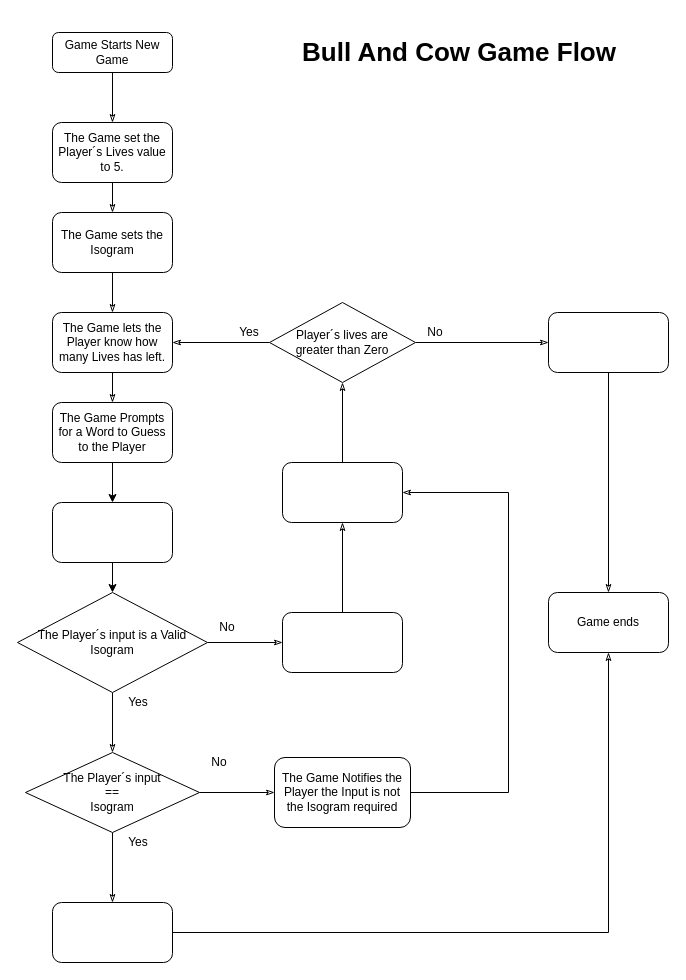
This 686x980 diagram has some shape labels left out. Here are the shapes that lost their labels. From the top down, the box of each, then its label:
(548, 312, 668, 372): Player Loses.
(282, 462, 402, 522): The Game Decreases a Player´s Life
(52, 502, 172, 562): The Player inputs the Word to Guess
(282, 612, 402, 672): The Game Notifies the Player the Input is not a Isogram
(52, 902, 172, 962): Player Wins
